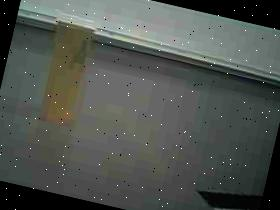Bottle A: (28, 6, 106, 134)
